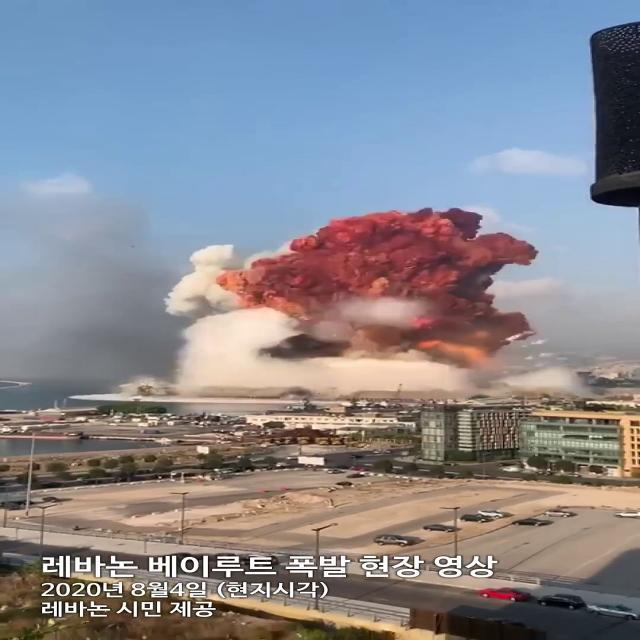explosion: (160, 211, 593, 439)
